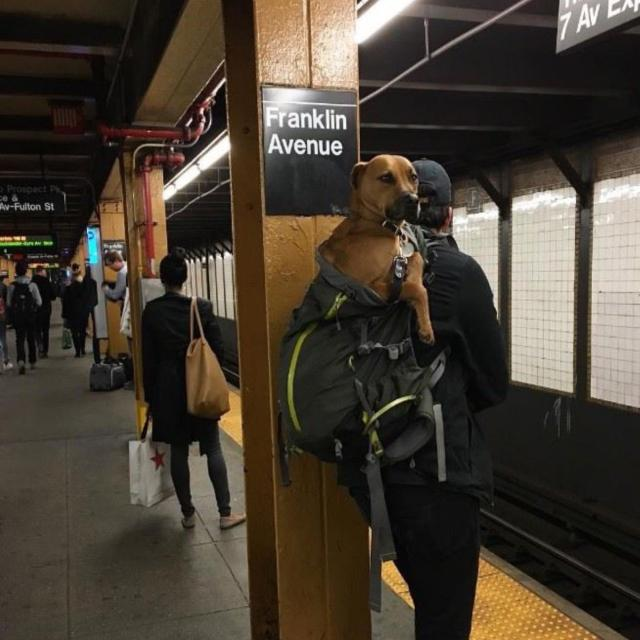body: (281, 157, 509, 639), (124, 250, 252, 534), (78, 515, 192, 639), (6, 260, 44, 374), (59, 270, 90, 358), (32, 265, 58, 359), (101, 249, 128, 304), (68, 259, 86, 339), (0, 274, 10, 335), (58, 272, 71, 306)
